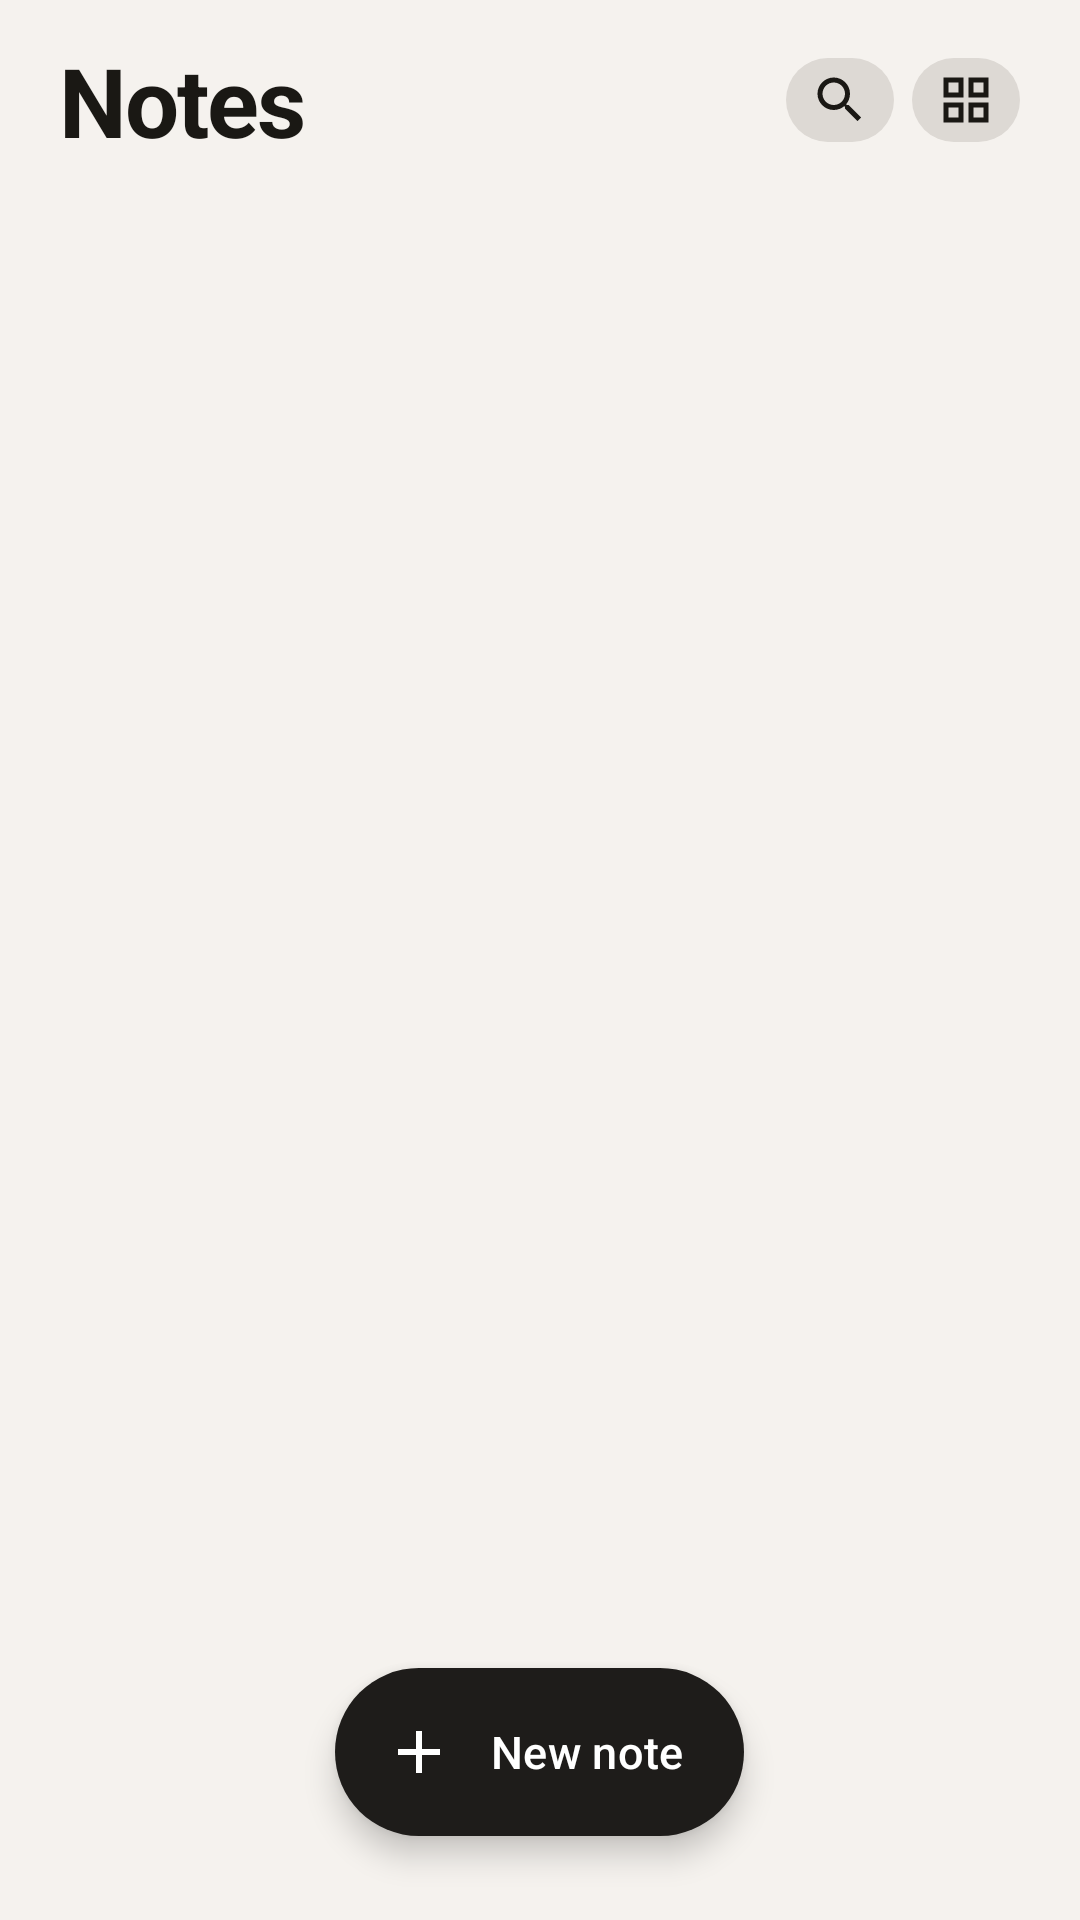

Point at icon controls on the screen. Image size 1080 x 1920, points as [x,y].
grid: [966,100]
search: [840,100]
